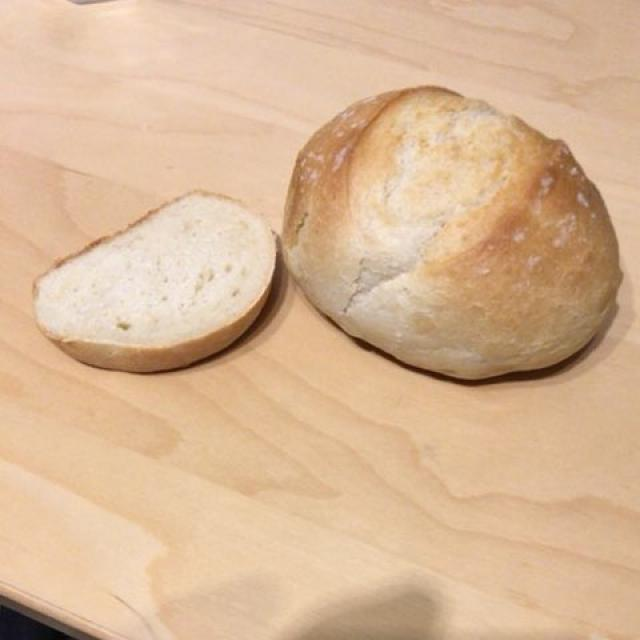bread: (34, 80, 629, 379)
